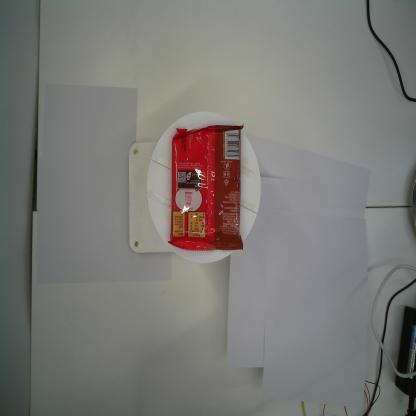Dessert: (167, 123, 245, 252)
